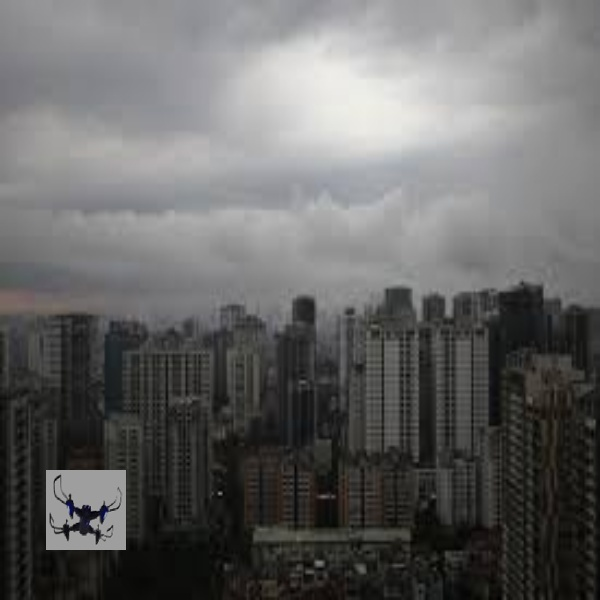drone: (47, 468, 125, 548)
